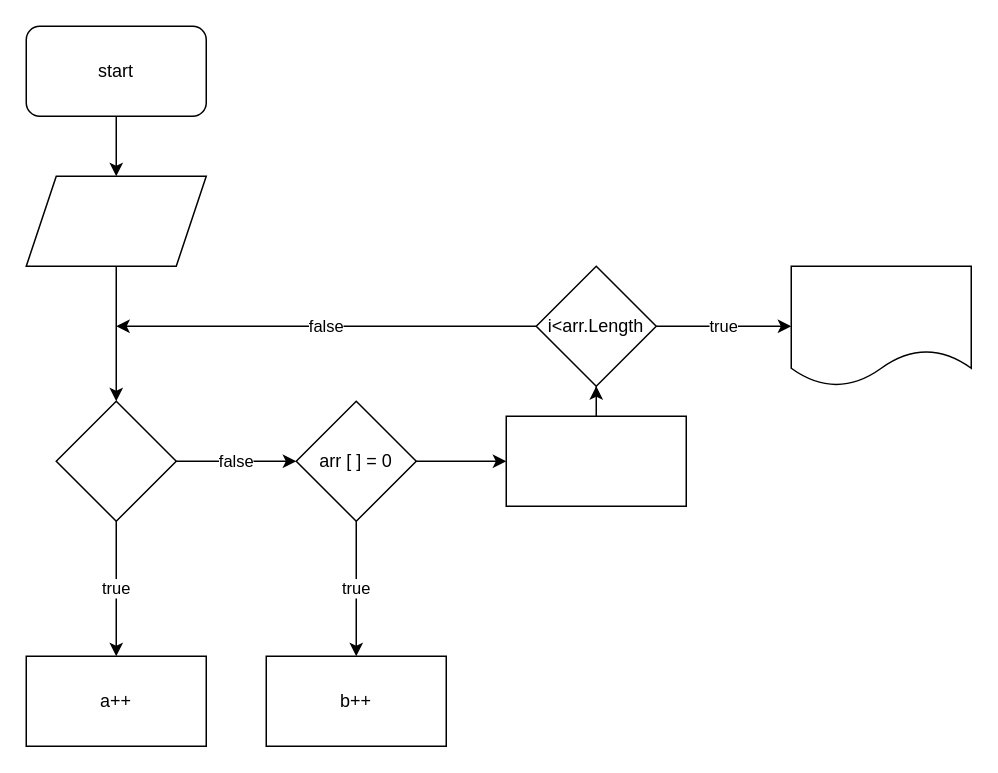
This 998x773 diagram has some shape labels left out. Each missing label, with the centre of its shape:
"arr [ ] < 0" goes at point (115, 460).
"i++" goes at point (595, 460).
"int [ ] arr = {1,2,3,-1,-5,0,5,7,0} i=0 a=0 b=0" goes at point (115, 220).
